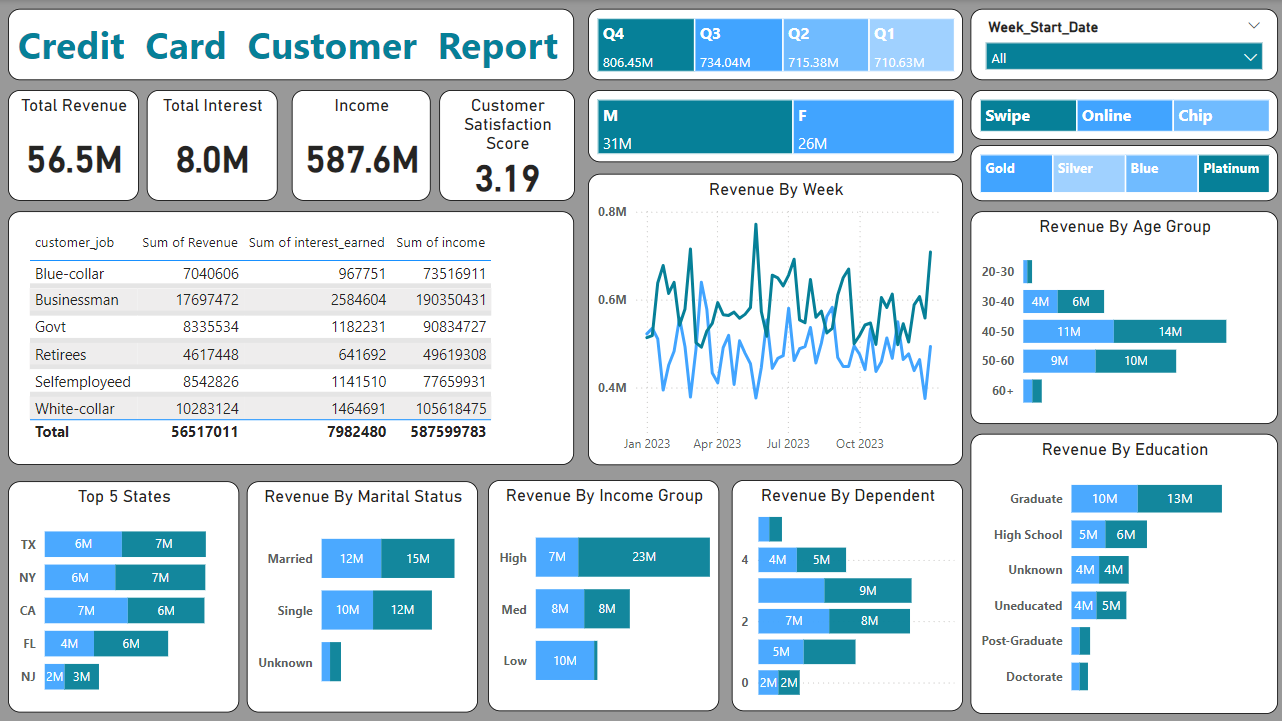

Layout of this report page (visuals, bound fields, positions):
{"tool":"powerbi","page":{"name":"Credit Card Customer","canvas":[1280,720],"ordinal":1},"visuals":[{"type":"textbox","box":[10,8.7,564.2,71],"z":0},{"type":"barChart","title":"Revenue By Income Group","fields":{"Category":["public cust_detail.IncomeGroup"],"Y":["Sum(public cc_detail.Revenue)"],"Series":["public cust_detail.gender"]},"box":[488.2,478.2,230.4,230.4],"z":1000},{"type":"tableEx","fields":{"Values":["public cust_detail.customer_job","Sum(public cc_detail.Revenue)","Sum(public cc_detail.interest_earned)","Sum(public cust_detail.income)"]},"box":[10,210.5,564.2,252.8],"z":2000},{"type":"card","title":"Total Revenue","fields":{"Values":["Sum(public cc_detail.Revenue)"]},"box":[10,89.7,130,110],"z":3000},{"type":"card","title":"Income","fields":{"Values":["Sum(public cust_detail.income)"]},"box":[292.7,89.7,138.2,110],"z":4000},{"type":"card","title":"Total Interest","fields":{"Values":["Sum(public cc_detail.interest_earned)"]},"box":[148.2,89.7,130,110],"z":5000},{"type":"card","title":"Customer Satisfaction Score","fields":{"Values":["Avg(public cust_detail.cust_satisfaction_score)"]},"box":[439.6,89.7,135,110],"z":6000},{"type":"slicer","fields":{"Values":["public cc_detail.week_start_date"]},"box":[968.9,8.7,306.4,71],"z":7000},{"type":"treemap","fields":{"Group":["public cc_detail.qtr"],"Values":["Avg(public cc_detail.client_num)"]},"box":[587.8,8.7,373.6,71],"z":8000},{"type":"treemap","fields":{"Values":["Avg(public cc_detail.client_num)"],"Group":["public cc_detail.use_chip"]},"box":[968.9,89.7,306.4,49.8],"z":9000},{"type":"treemap","fields":{"Values":["Avg(public cc_detail.client_num)"],"Group":["public cc_detail.card_category"]},"box":[968.9,144.5,306.4,56],"z":10000},{"type":"lineChart","title":"Revenue By Week","fields":{"Y":["Sum(public cc_detail.Revenue)"],"Series":["public cust_detail.gender"],"Category":["public cc_detail.week_start_date.Variation.Date Hierarchy.Year","public cc_detail.week_start_date.Variation.Date Hierarchy.Month","public cc_detail.week_start_date.Variation.Date Hierarchy.Day"]},"box":[587.8,173.1,373.6,290.2],"z":12000},{"type":"treemap","fields":{"Group":["public cust_detail.gender"],"Values":["Sum(public cc_detail.Revenue)"]},"box":[587.8,89.7,373.6,72.2],"z":13000},{"type":"barChart","title":"Revenue By Age Group","fields":{"Category":["public cust_detail.AgeGroup"],"Y":["Sum(public cc_detail.Revenue)"],"Series":["public cust_detail.gender"]},"box":[968.9,210.5,306.4,211.7],"z":13001},{"type":"barChart","title":"Revenue By Dependent","fields":{"Category":["public cust_detail.dependent_count"],"Y":["Sum(public cc_detail.Revenue)"],"Series":["public cust_detail.gender"]},"box":[731,478.2,230.4,230.4],"z":13002},{"type":"barChart","title":"Revenue By Education","fields":{"Category":["public cust_detail.education_level"],"Y":["Sum(public cc_detail.Revenue)"],"Series":["public cust_detail.gender"]},"box":[968.9,432.1,306.4,279],"z":13003},{"type":"barChart","title":"Top 5 States","fields":{"Category":["public cust_detail.state_cd"],"Y":["Sum(public cc_detail.Revenue)"],"Series":["public cust_detail.gender"]},"box":[10,479.5,230,230],"z":13004},{"type":"barChart","title":"Revenue By Marital Status","fields":{"Category":["public cust_detail.marital_status"],"Y":["Sum(public cc_detail.Revenue)"],"Series":["public cust_detail.gender"]},"box":[247.8,479.5,230.4,230.4],"z":13005}]}

Visuals, with their boxes in screenshot pixels (x1, y1, x2, y2), scaled from the page's 1280x720 canvas onto the 1282x721 screenshot:
textbox: <box>10,9,575,80</box>
"Revenue By Income Group" barChart: <box>489,479,720,710</box>
tableEx - public cust_detail.customer_job x Sum(public cc_detail.Revenue): <box>10,211,575,464</box>
"Total Revenue" card: <box>10,90,140,200</box>
"Income" card: <box>293,90,432,200</box>
"Total Interest" card: <box>148,90,279,200</box>
"Customer Satisfaction Score" card: <box>440,90,575,200</box>
slicer - public cc_detail.week_start_date: <box>970,9,1277,80</box>
treemap - public cc_detail.qtr x Avg(public cc_detail.client_num): <box>589,9,963,80</box>
treemap - Avg(public cc_detail.client_num) x public cc_detail.use_chip: <box>970,90,1277,140</box>
treemap - Avg(public cc_detail.client_num) x public cc_detail.card_category: <box>970,145,1277,201</box>
"Revenue By Week" lineChart: <box>589,173,963,464</box>
treemap - public cust_detail.gender x Sum(public cc_detail.Revenue): <box>589,90,963,162</box>
"Revenue By Age Group" barChart: <box>970,211,1277,423</box>
"Revenue By Dependent" barChart: <box>732,479,963,710</box>
"Revenue By Education" barChart: <box>970,433,1277,712</box>
"Top 5 States" barChart: <box>10,480,240,710</box>
"Revenue By Marital Status" barChart: <box>248,480,479,711</box>
